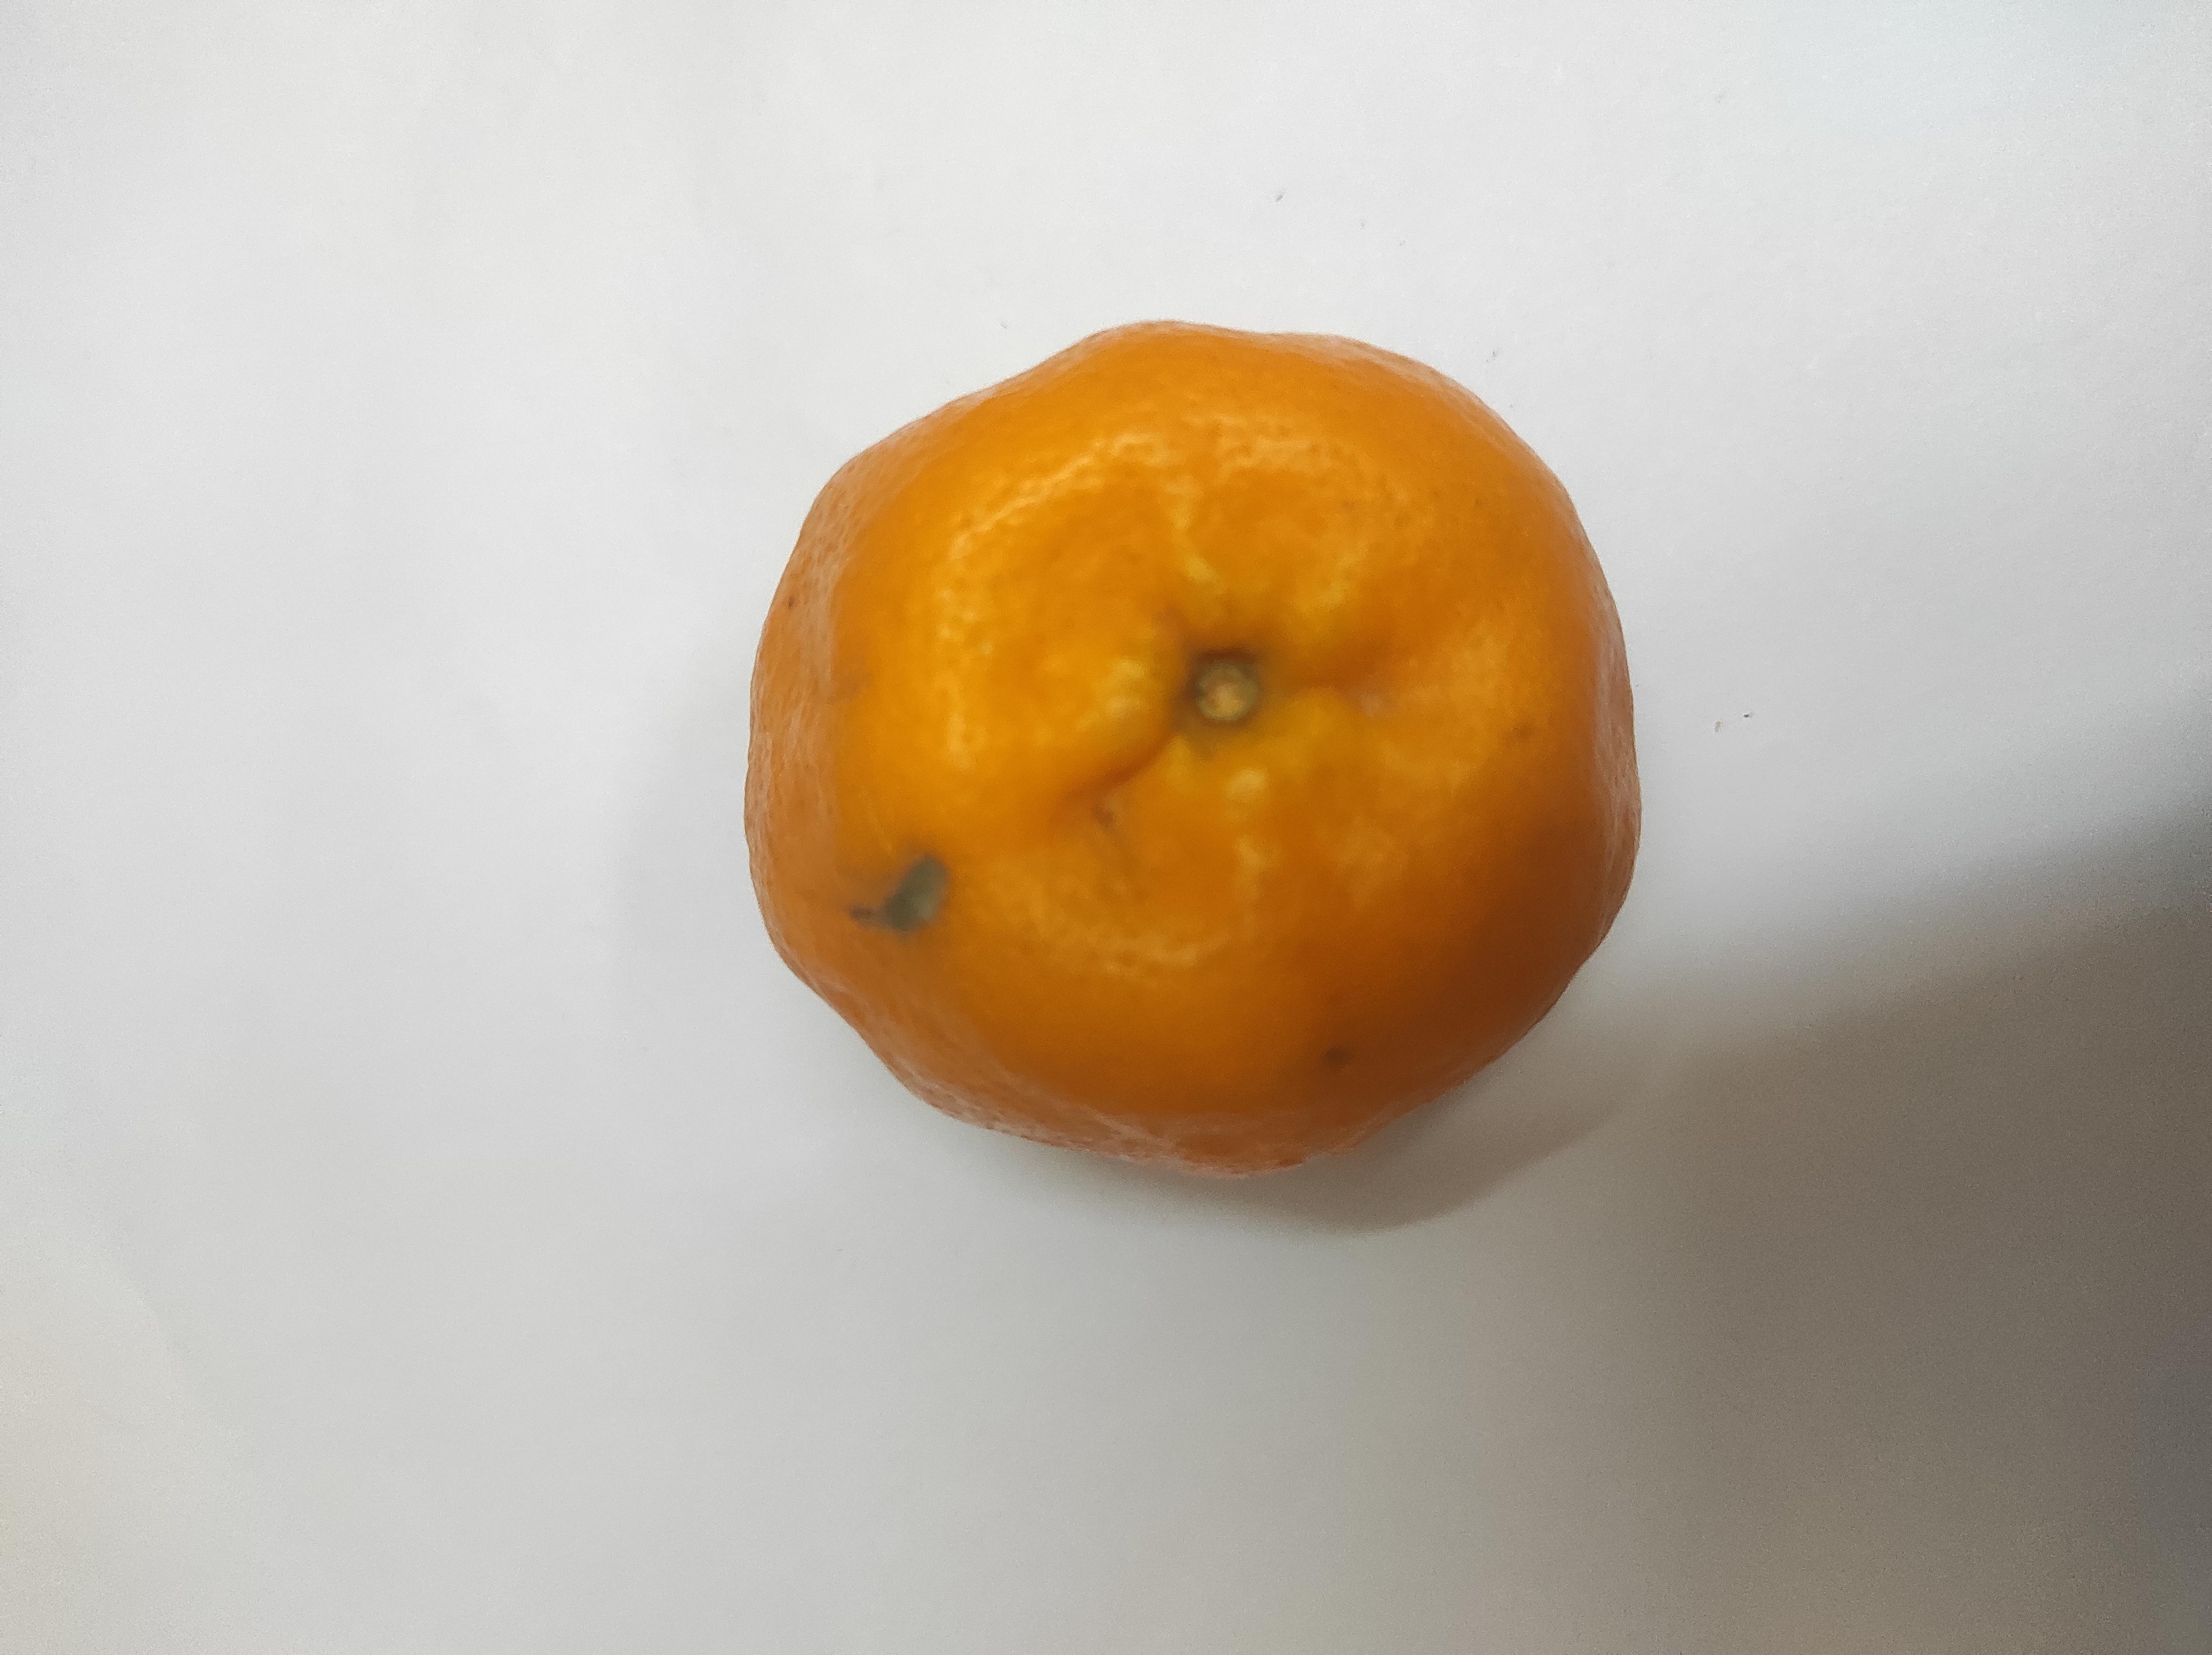Ripe: (663, 570, 1796, 1224)
